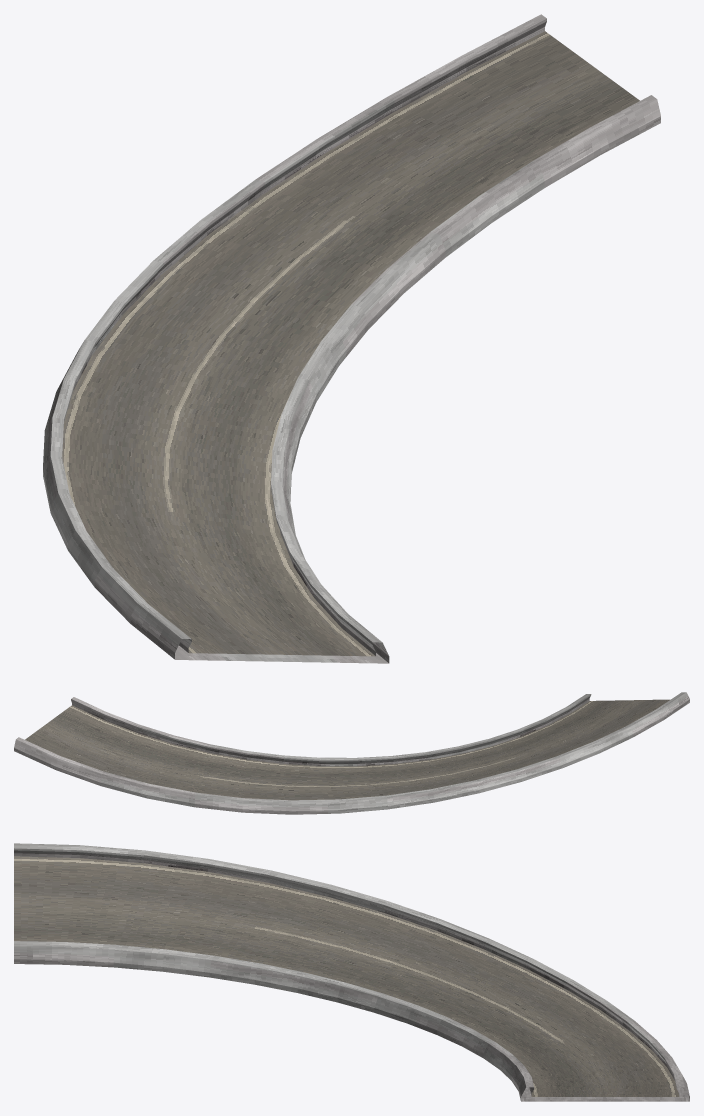
The model's file is turn-right4x4.glb.
The picture shows the model from 3 angles, top to bottom: view 1: azimuth 30°, elevation 25°; view 2: azimuth 150°, elevation 25°; view 3: azimuth 270°, elevation 25°; orthographic projection. The views are drawn at different scales.
Parts seen in each view (by area): view 1: road-Turn-HalfBankedRight-BiSlopeUp-Up2-Right-Size4; view 2: road-Turn-HalfBankedRight-BiSlopeUp-Up2-Right-Size4; view 3: road-Turn-HalfBankedRight-BiSlopeUp-Up2-Right-Size4.
Part boxes in pixels (left/top/right/bottom): road-Turn-HalfBankedRight-BiSlopeUp-Up2-Right-Size4: left=43, top=14, right=660, bottom=663; road-Turn-HalfBankedRight-BiSlopeUp-Up2-Right-Size4: left=14, top=692, right=689, bottom=814; road-Turn-HalfBankedRight-BiSlopeUp-Up2-Right-Size4: left=14, top=843, right=689, bottom=1101.
Size of the model in its own units: 4 by 0.5937 by 4.
2 materials, 2 textured.
